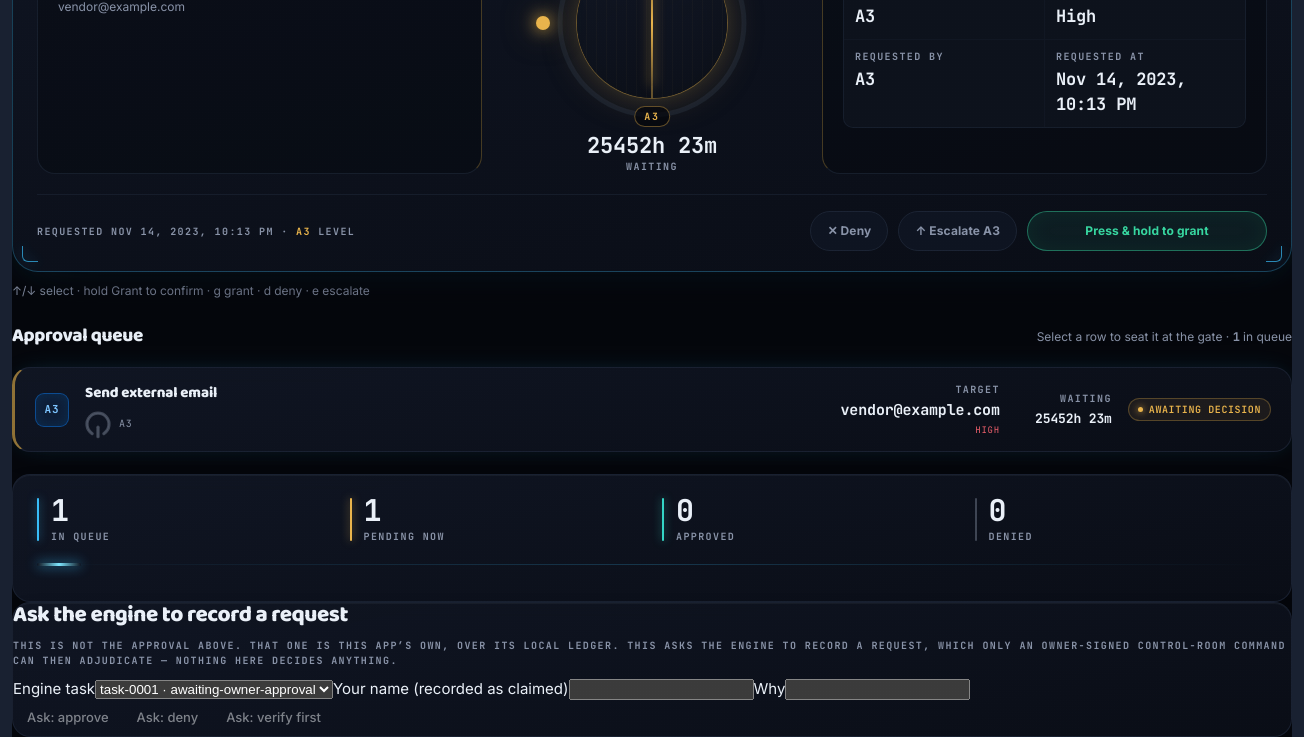
Test: the engine REQUEST section › renders a record as recorded-not-adjudicated
The width and height of the screenshot is (1304, 737).
(page scrolled)
expect the dropdown labelled "Engine task" is shown: met, box [95,680,333,699]
Type "gev" into the field labelled "Your name (recorded as claimed)".
click(661, 689); type("gev")  # box [568,679,754,700]
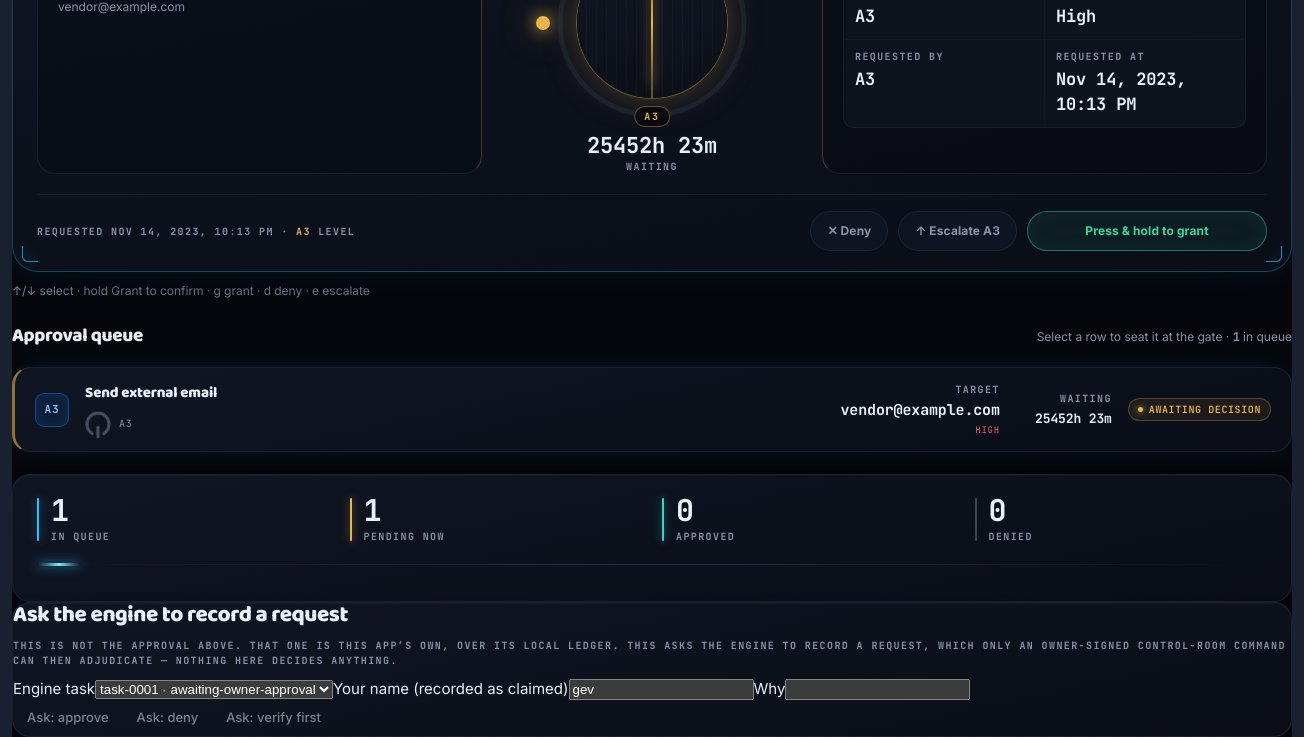
Type "the owner should see this" into the field labelled "Why".
click(878, 689); type("the owner should see this")  # box [785,679,970,700]
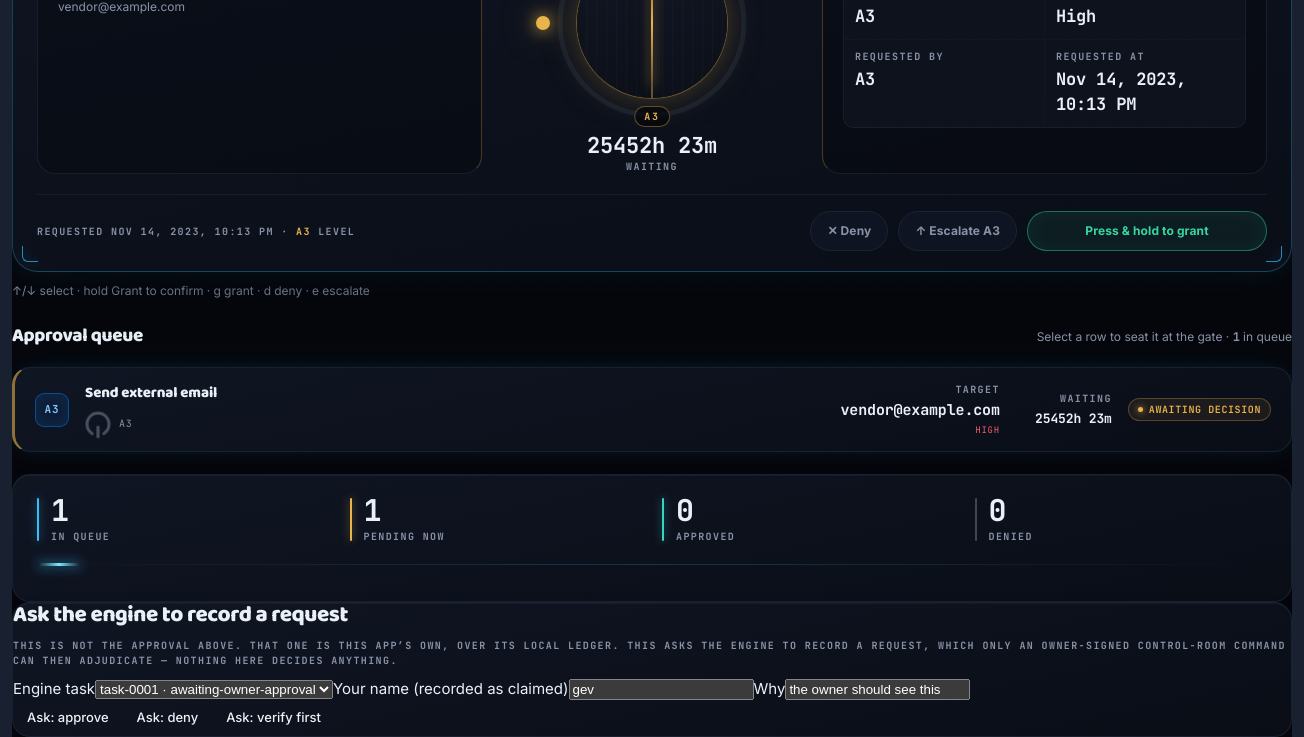
Click the button "Ask: approve".
click(68, 718)  # box [13,700,122,736]
(page scrolled)
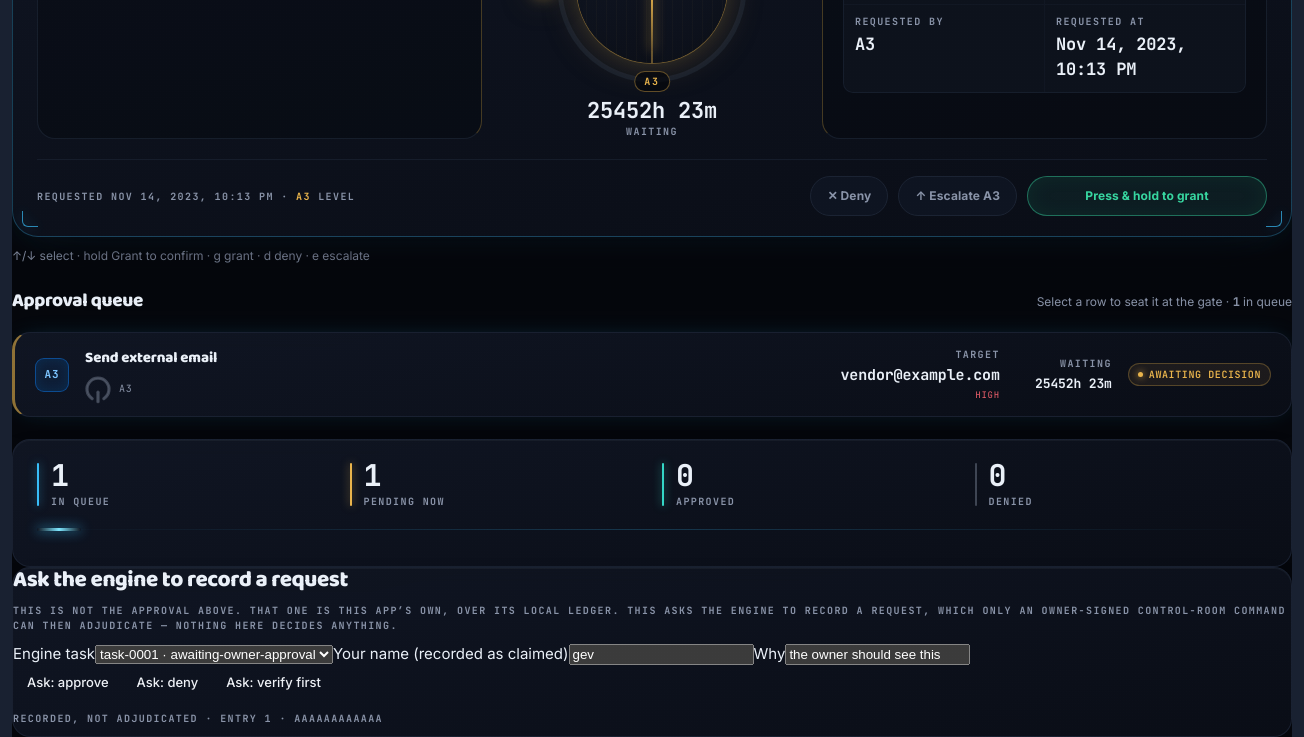
expect the text "Recorded, not adjudicated · entry 1 · aaaaaaaaaaaa" is shown: met, box [13,712,383,725]
